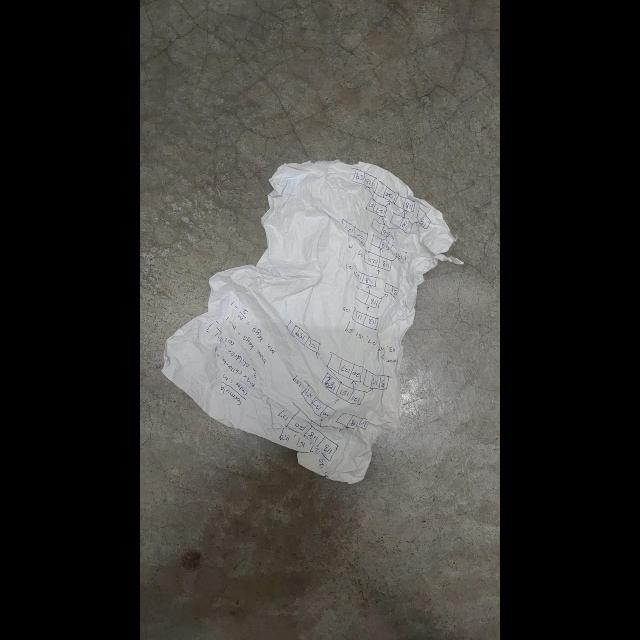papel: (158, 157, 458, 488)
